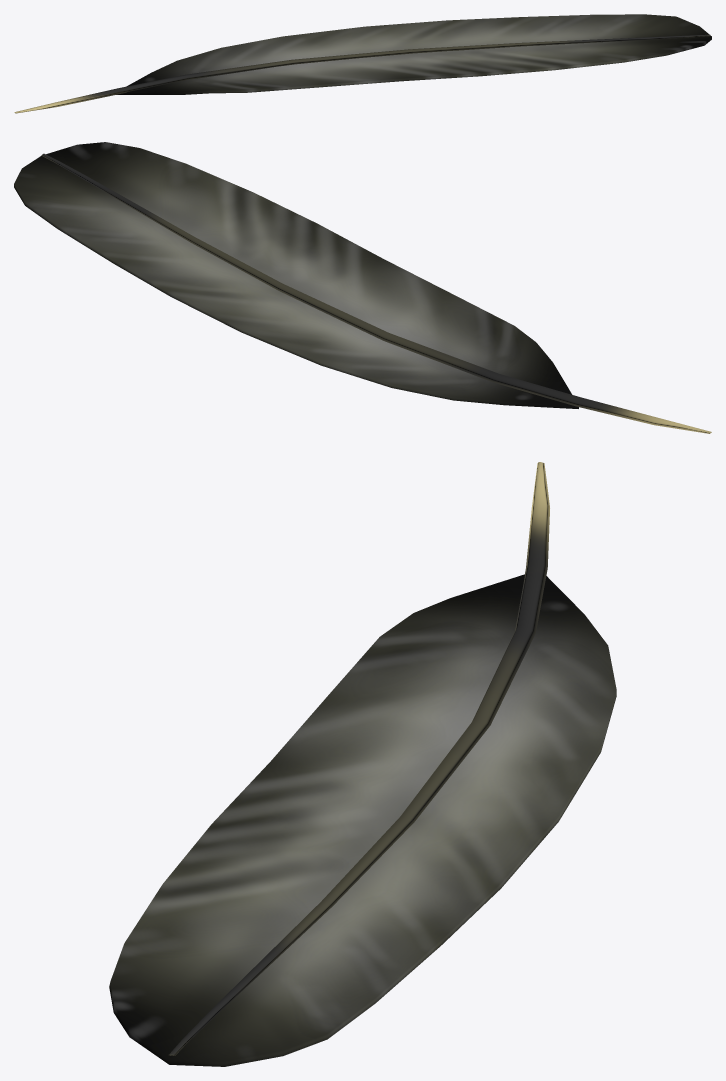
The model's file is Quill_LowPoly.fbx.
The picture shows the model from 3 angles, top to bottom: view 1: azimuth 30°, elevation 25°; view 2: azimuth 150°, elevation 25°; view 3: azimuth 270°, elevation 25°; orthographic projection. The views are drawn at different scales.
Parts seen in each view (by area): view 1: Quill; view 2: Quill; view 3: Quill.
Part boxes in pixels (x1,y1,x2,y2): Quill: (14, 14, 711, 113); Quill: (14, 142, 711, 433); Quill: (109, 462, 616, 1066).
Bounding box in the file's own units: 831 × 17.12 × 302.
Materials: 2 (2 with a texture image).
